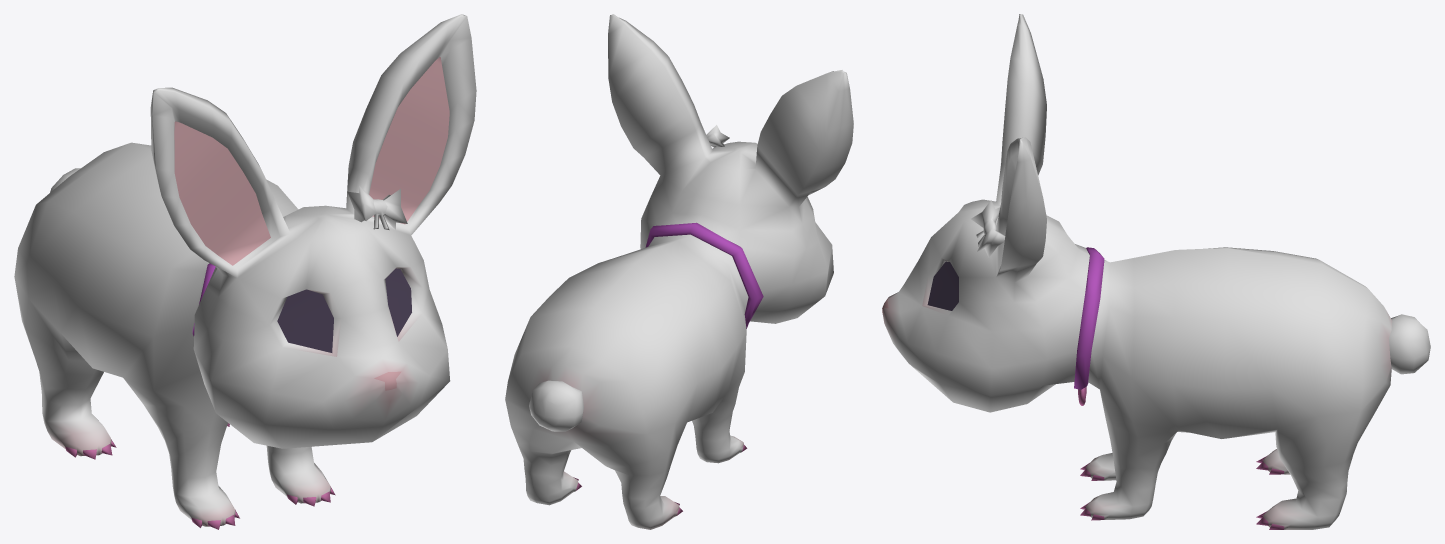
Rendered from Rabbit.fbx.
3 views of the same model, side by side, from view 1: azimuth 30°, elevation 25°; view 2: azimuth 150°, elevation 25°; view 3: azimuth 270°, elevation 25° (orthographic). The views are drawn at different scales.
Parts seen in each view (by area): view 1: Rabbit_NonHumanoid, Rabbit_Bow; view 2: Rabbit_NonHumanoid; view 3: Rabbit_NonHumanoid, Rabbit_Bow.
Part boxes in pixels (<box>): Rabbit_NonHumanoid: <box>14,14,476,529</box>; Rabbit_Bow: <box>347,186,407,230</box>; Rabbit_NonHumanoid: <box>505,14,853,529</box>; Rabbit_NonHumanoid: <box>882,14,1430,529</box>; Rabbit_Bow: <box>971,200,1005,257</box>.
Size of the model in its own units: 12.32 by 18.18 by 21.57.
